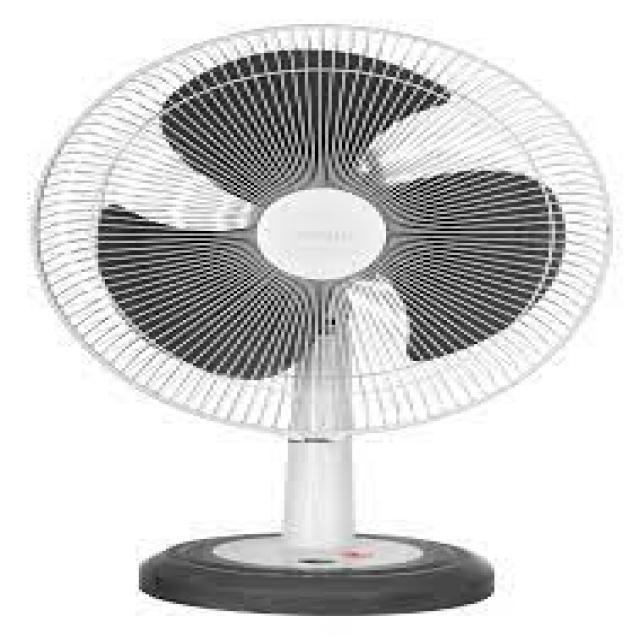fan: (48, 17, 627, 628)
